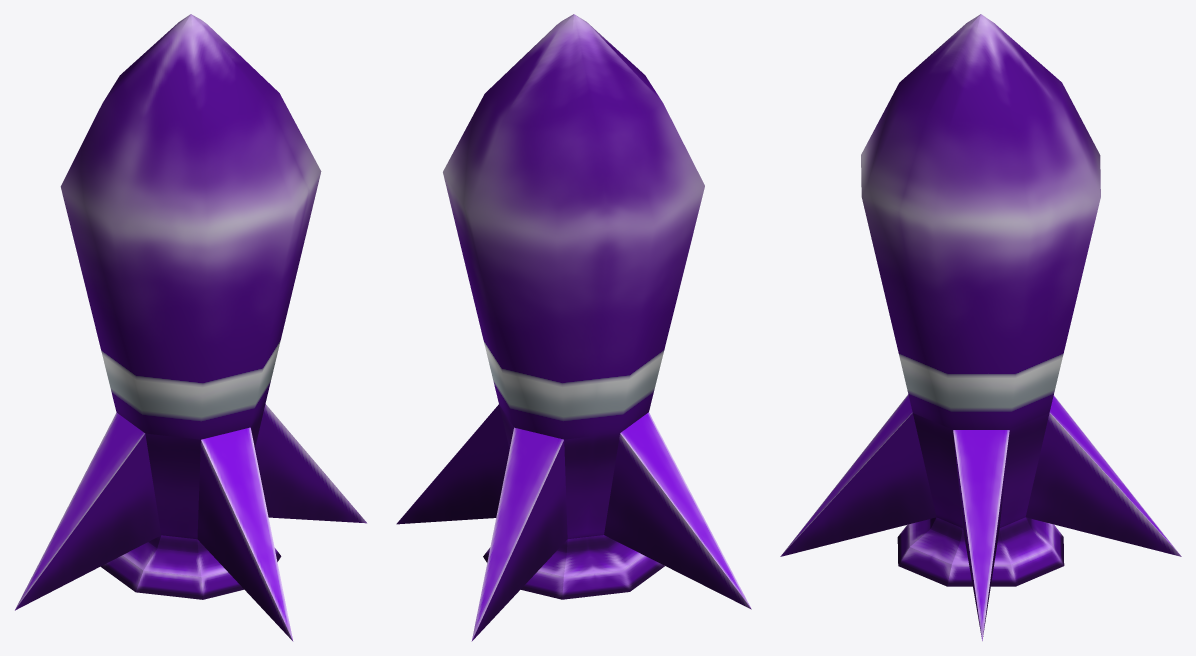
The model's file is TX_ZDR_Atk_E_zhandan_02.FBX.
The picture shows the model from 3 angles, left to right: view 1: azimuth 30°, elevation 25°; view 2: azimuth 150°, elevation 25°; view 3: azimuth 270°, elevation 25°; orthographic projection.
Parts seen in each view (by area): view 1: xiaopao_paodan; view 2: xiaopao_paodan; view 3: xiaopao_paodan.
Boxes of the visible parts, x1,y1,x2,y2 form: xiaopao_paodan: (15,14,366,641); xiaopao_paodan: (396,14,751,641); xiaopao_paodan: (780,14,1181,640).
Size of the model in its own units: 20.7 by 30.87 by 20.7.
